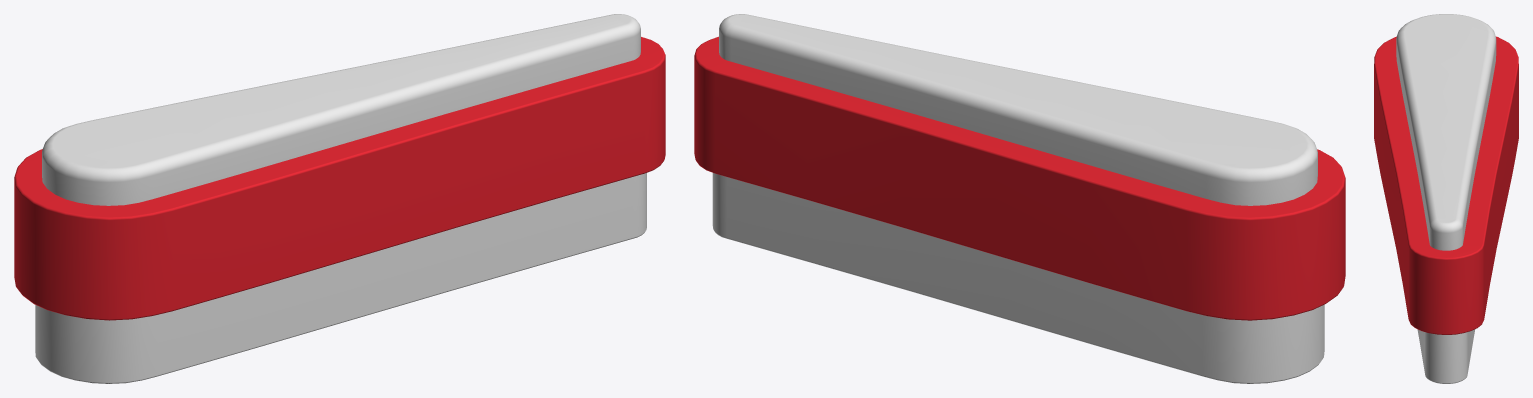
Rendered from Flipper, Generic (3in) - Hipoly.fbx.
3 renders of one model, left to right at view 1: azimuth 30°, elevation 25°; view 2: azimuth 150°, elevation 25°; view 3: azimuth 270°, elevation 25°, orthographic. The views are drawn at different scales.
Visible parts, largest first — view 1: Flipper, Generic (3"); view 2: Flipper, Generic (3"); view 3: Flipper, Generic (3").
Boxes of the visible parts, bbox=[...] form: Flipper, Generic (3"): bbox=[14, 14, 665, 383]; Flipper, Generic (3"): bbox=[694, 14, 1345, 383]; Flipper, Generic (3"): bbox=[1374, 14, 1518, 383].
Size of the model in its own units: 8.01 by 2.54 by 2.12.
